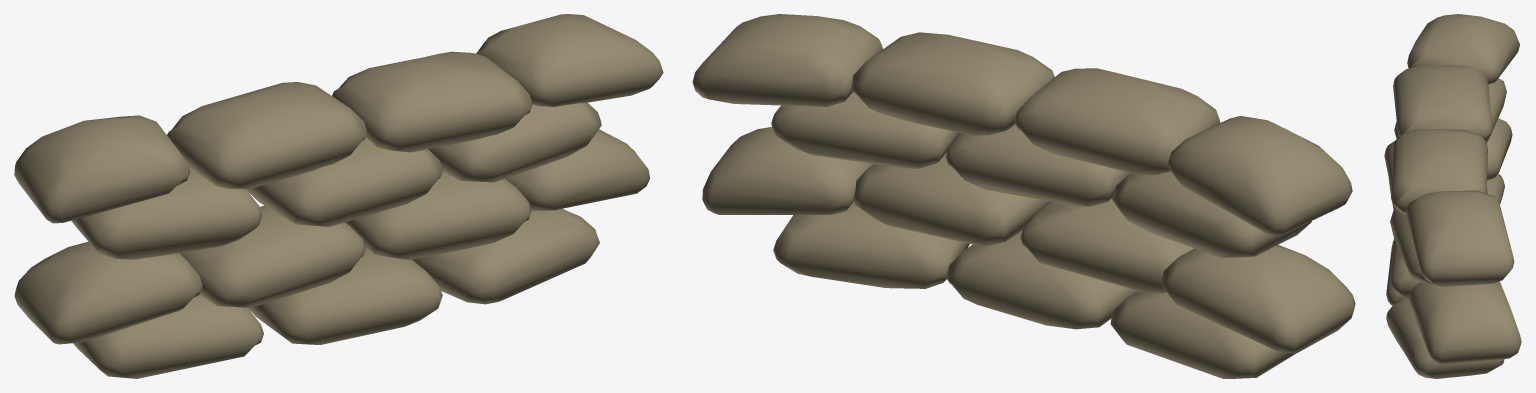
File: sandbags.glb
3 views of the same model, side by side, from view 1: azimuth 30°, elevation 25°; view 2: azimuth 150°, elevation 25°; view 3: azimuth 270°, elevation 25° (orthographic). The views are drawn at different scales.
Visible parts, largest first — view 1: SackTrench; view 2: SackTrench; view 3: SackTrench.
Part boxes in pixels (<box>): SackTrench: <box>14,14,663,378</box>; SackTrench: <box>692,14,1355,378</box>; SackTrench: <box>1384,14,1521,378</box>.
Bounding box in the file's own units: 3.16 × 1.19 × 0.7751.
